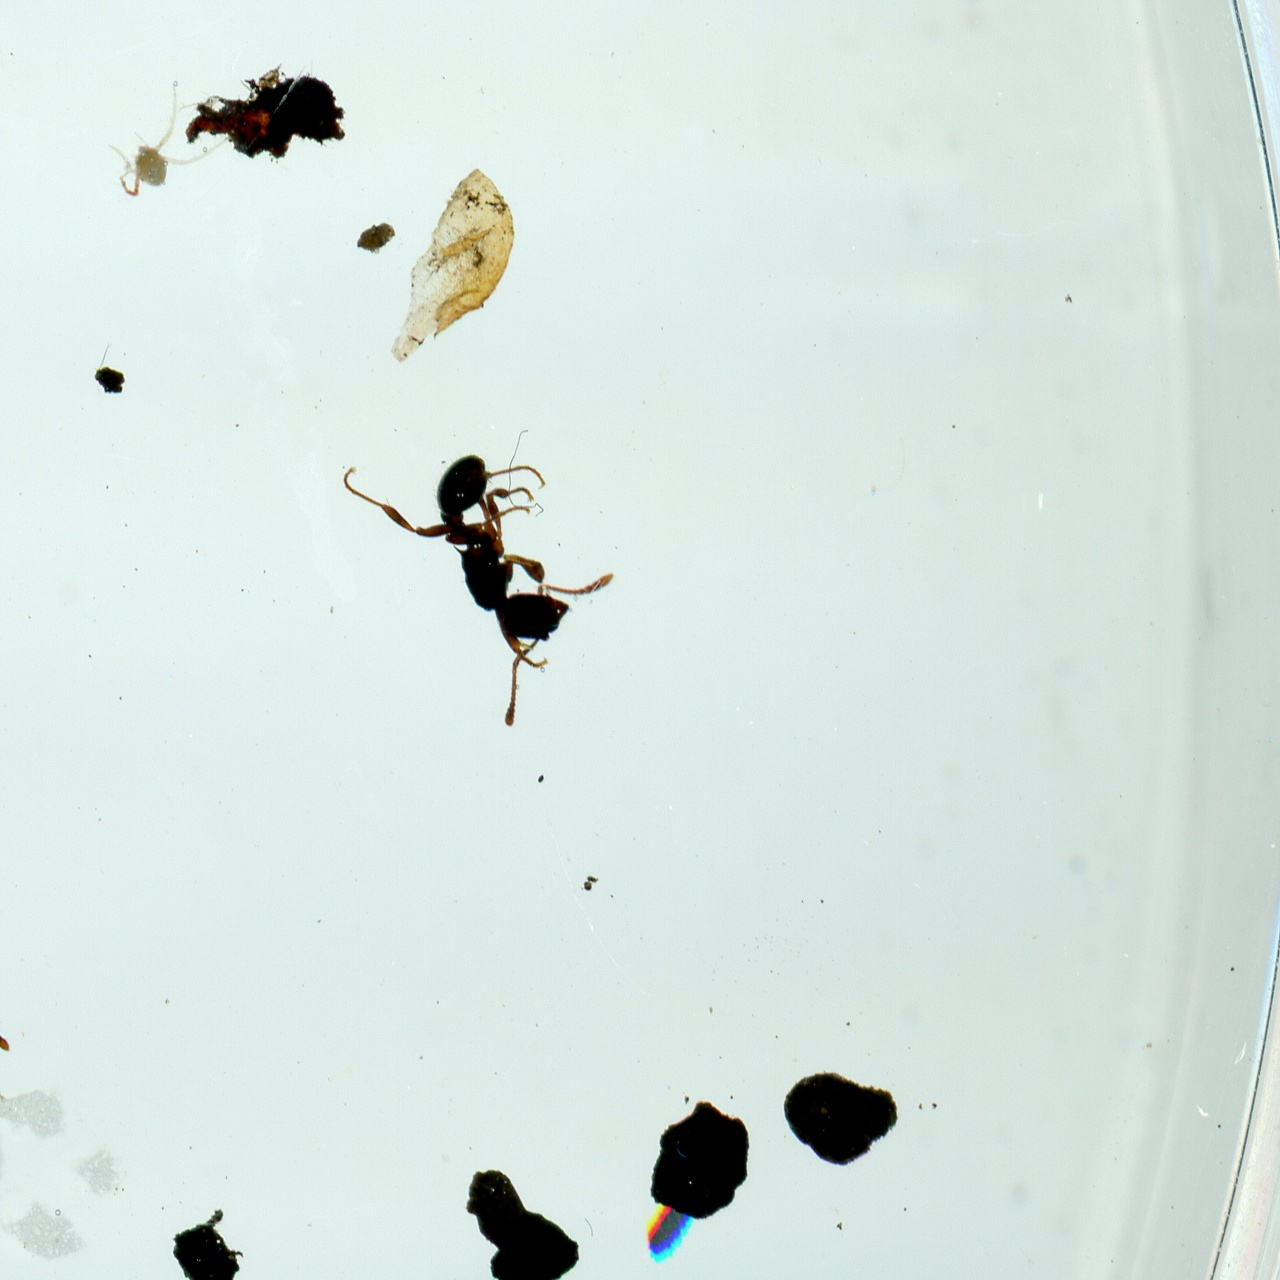arthropod: (333, 446, 633, 735), (102, 77, 236, 199), (627, 1195, 703, 1278)
